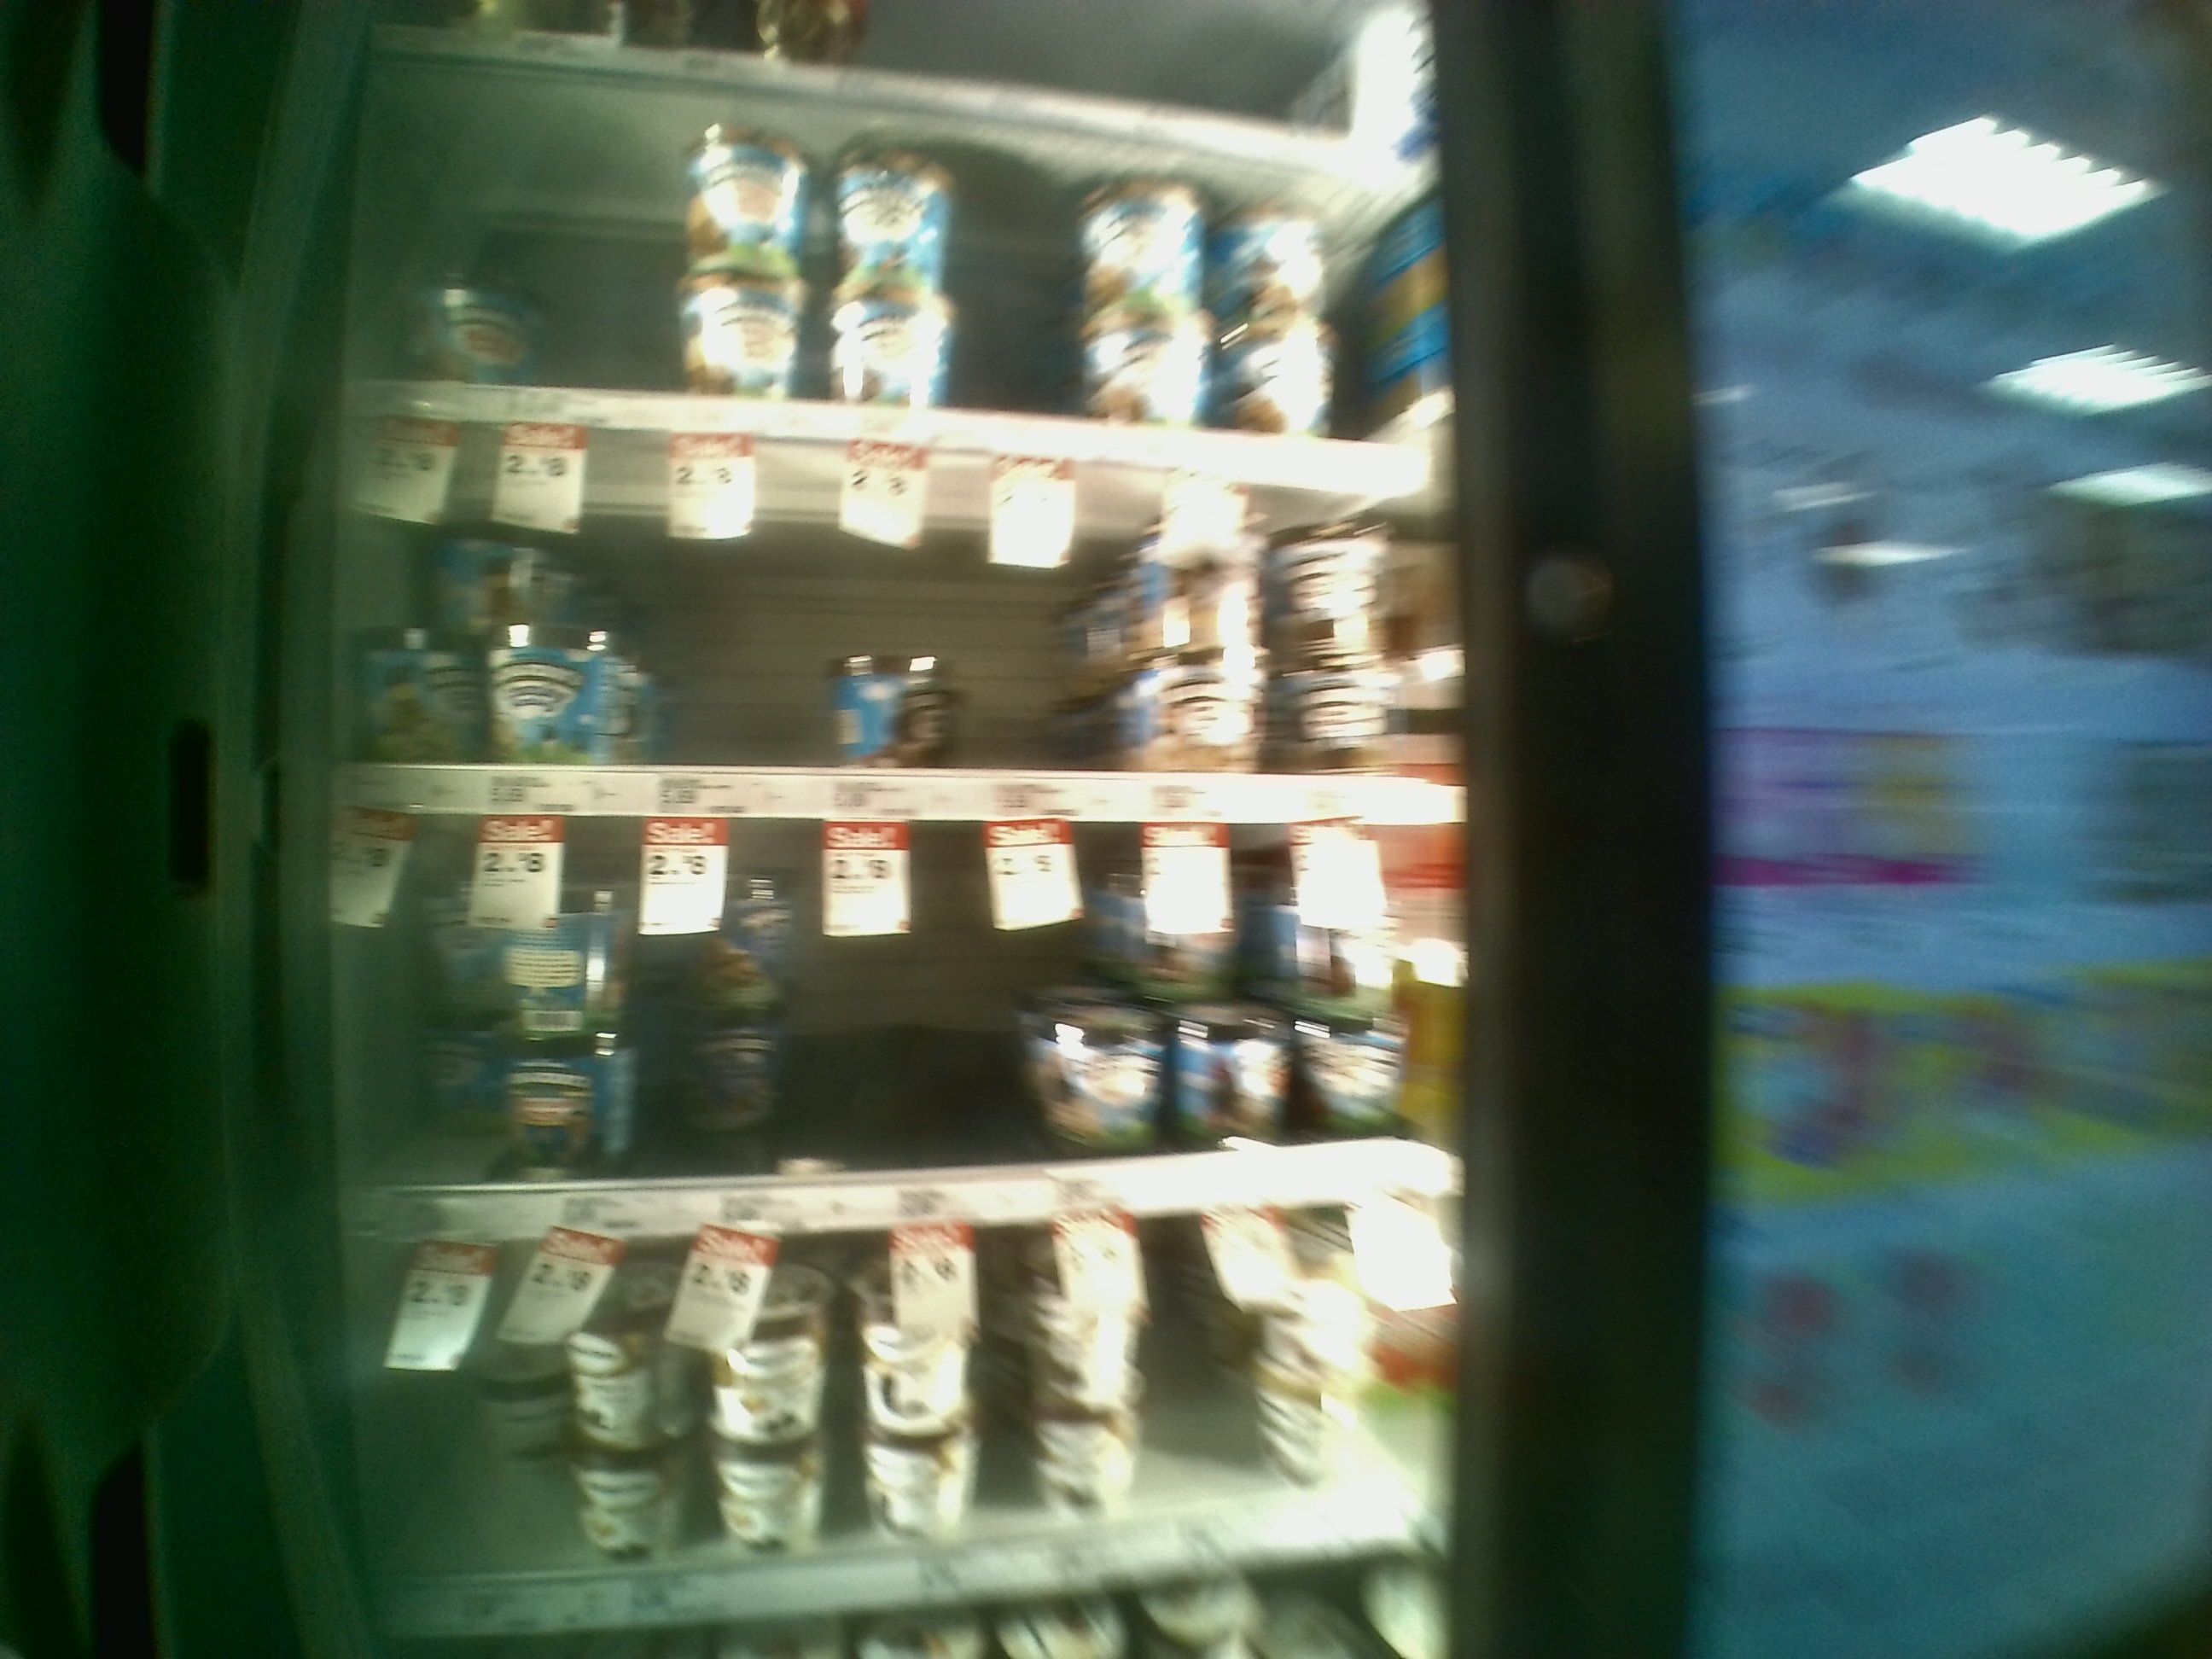shelf: (324, 819, 1543, 1223), (324, 413, 1489, 823)
